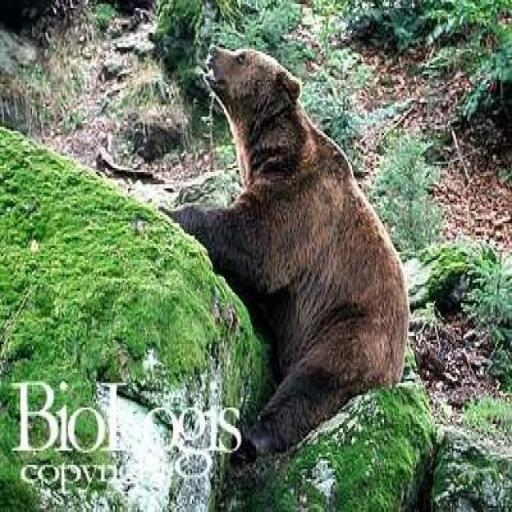Bear: (158, 43, 410, 457)
